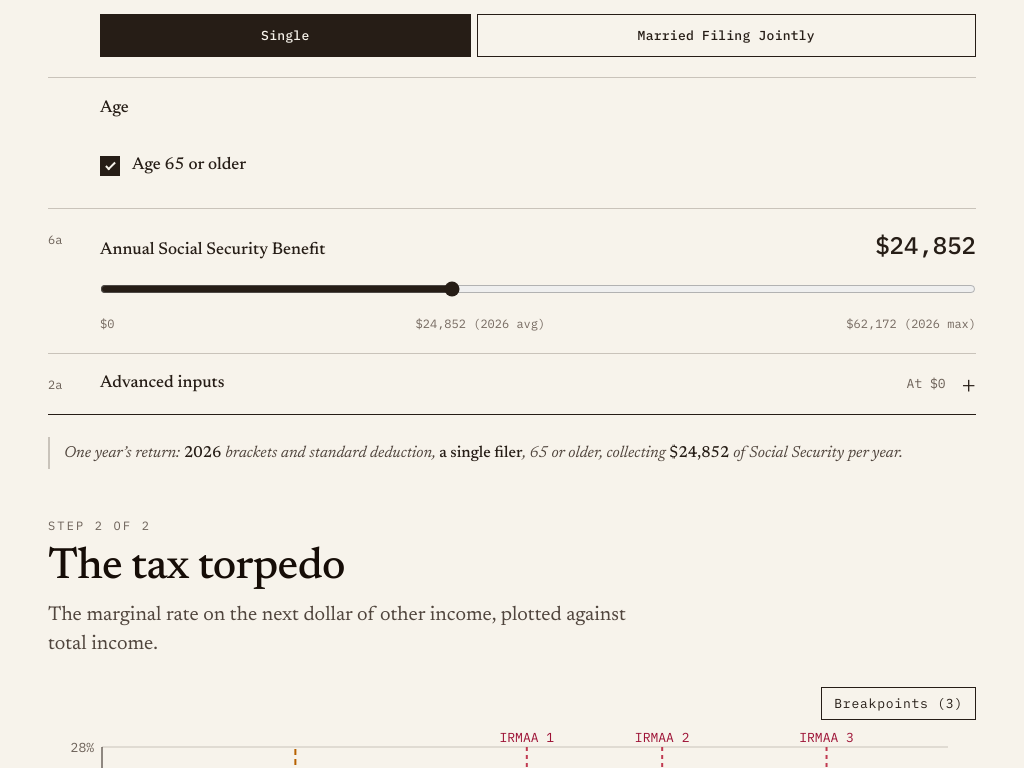
Test: the total the return owes › counts tax-exempt interest as income received
The width and height of the screenshot is (1024, 768).
(page scrolled)
Set the slider named "tax-exempt (municipal) interest" to "10000" at (512, 384), box [48,353,976,415]
(page scrolled)
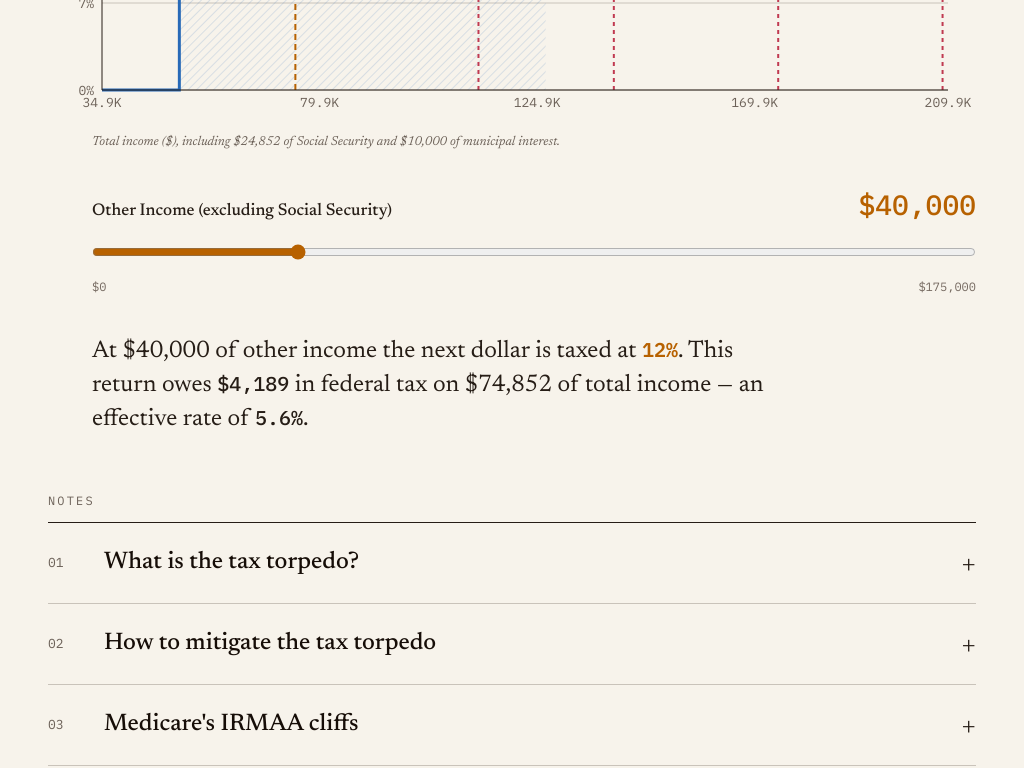
Expected: the element with class "slider-readout" shows "owes $4,189 in federal tax on $74,852 of total income", [92,334,796,436]
